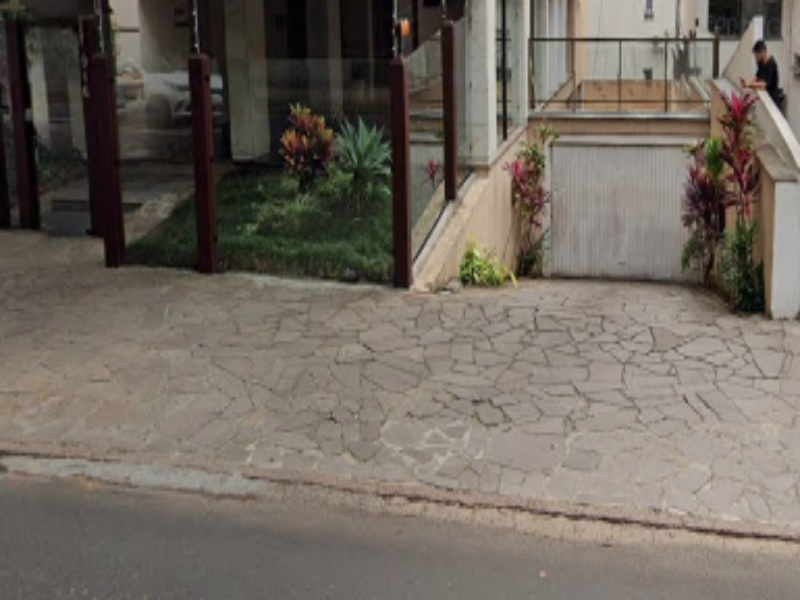v19: (338, 428, 796, 581)
